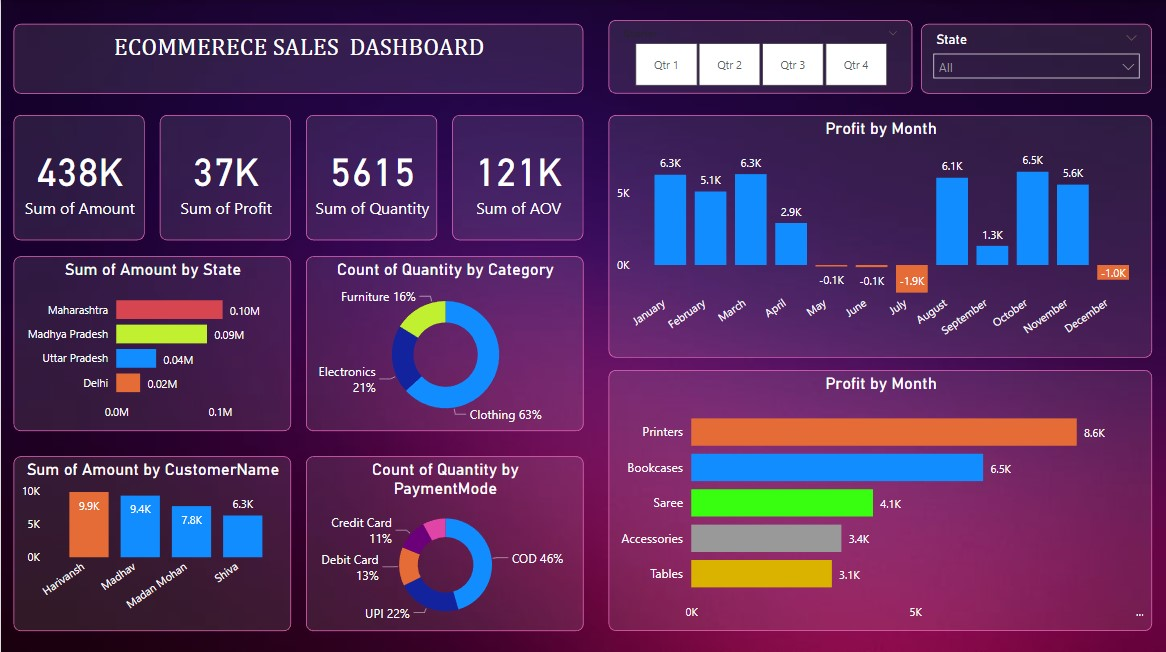

This screenshot's page, from the dashboard's own definition file:
{"tool":"powerbi","page":{"name":"Page 1","canvas":[1280,720],"ordinal":0},"visuals":[{"type":"textbox","box":[13.7,26.1,625.7,76.8],"z":0},{"type":"columnChart","title":"Profit by Month","fields":{"Category":["Orders.Order Date.Variation.Date Hierarchy.Month"],"Y":["Details.Profit"]},"box":[666.9,126.2,596.9,266.2],"z":1000},{"type":"barChart","title":"Profit by Month","fields":{"Y":["Details.Profit"],"Category":["Details.Sub-Category"]},"box":[666.9,406.2,596.9,286.8],"z":2000},{"type":"donutChart","fields":{"Category":["Details.Category"],"Y":["Details.Quantity"]},"box":[334.8,281.3,304.6,192.1],"z":3000},{"type":"donutChart","fields":{"Y":["Details.Quantity"],"Category":["Details.PaymentMode"]},"box":[334.8,500.9,304.6,192.1],"z":4000},{"type":"card","fields":{"Values":["Details.Amount"]},"box":[13.7,126.2,144.1,137.2],"z":5000},{"type":"card","fields":{"Values":["Details.Profit"]},"box":[174.3,126.2,144.1,137.2],"z":6000},{"type":"card","fields":{"Values":["Details.Average Order Value"]},"box":[495.4,126.2,144.1,137.2],"z":7000},{"type":"card","fields":{"Values":["Details.Quantity"]},"box":[334.8,126.2,144.1,137.2],"z":8000},{"type":"barChart","fields":{"Category":["Orders.State"],"Y":["Details.Amount"]},"box":[13.7,281.3,304.6,192.1],"z":9000},{"type":"columnChart","fields":{"Category":["Orders.CustomerName"],"Y":["Details.Amount"]},"box":[13.7,500.9,304.6,192.1],"z":10000},{"type":"slicer","fields":{"Values":["Orders.Order Date.Variation.Date Hierarchy.Quarter"]},"box":[666.9,22,333.4,81],"z":10001},{"type":"slicer","fields":{"Values":["Orders.State"]},"box":[1010,26.1,253.9,76.8],"z":10002}]}

Visuals, with their boxes in screenshot pixels (x1, y1, x2, y2), scaled from the page's 1280x720 canvas onto the 1166x652 screenshot:
textbox: select_region(12, 24, 582, 93)
"Profit by Month" columnChart: select_region(608, 114, 1151, 355)
"Profit by Month" barChart: select_region(608, 368, 1151, 628)
donutChart - Details.Category x Details.Quantity: select_region(305, 255, 582, 429)
donutChart - Details.Quantity x Details.PaymentMode: select_region(305, 454, 582, 628)
card - Details.Amount: select_region(12, 114, 144, 239)
card - Details.Profit: select_region(159, 114, 290, 239)
card - Details.Average Order Value: select_region(451, 114, 583, 239)
card - Details.Quantity: select_region(305, 114, 436, 239)
barChart - Orders.State x Details.Amount: select_region(12, 255, 290, 429)
columnChart - Orders.CustomerName x Details.Amount: select_region(12, 454, 290, 628)
slicer - Orders.Order Date.Variation.Date Hierarchy.Quarter: select_region(608, 20, 911, 93)
slicer - Orders.State: select_region(920, 24, 1151, 93)
